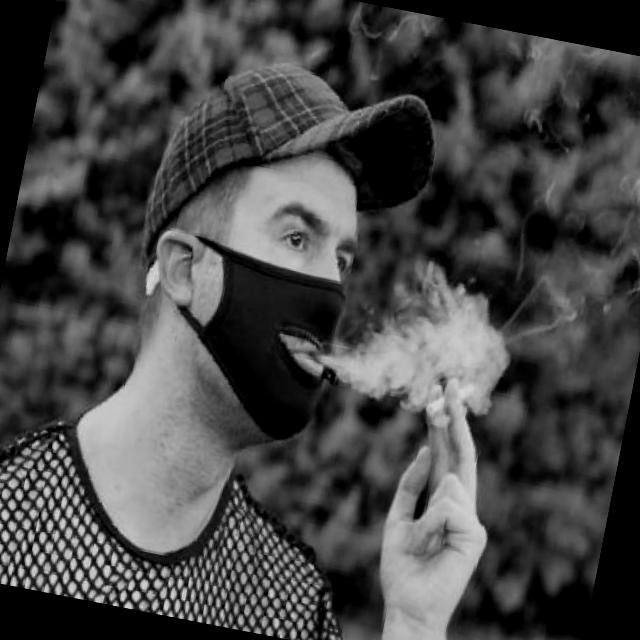smoke: (414, 341, 509, 442)
